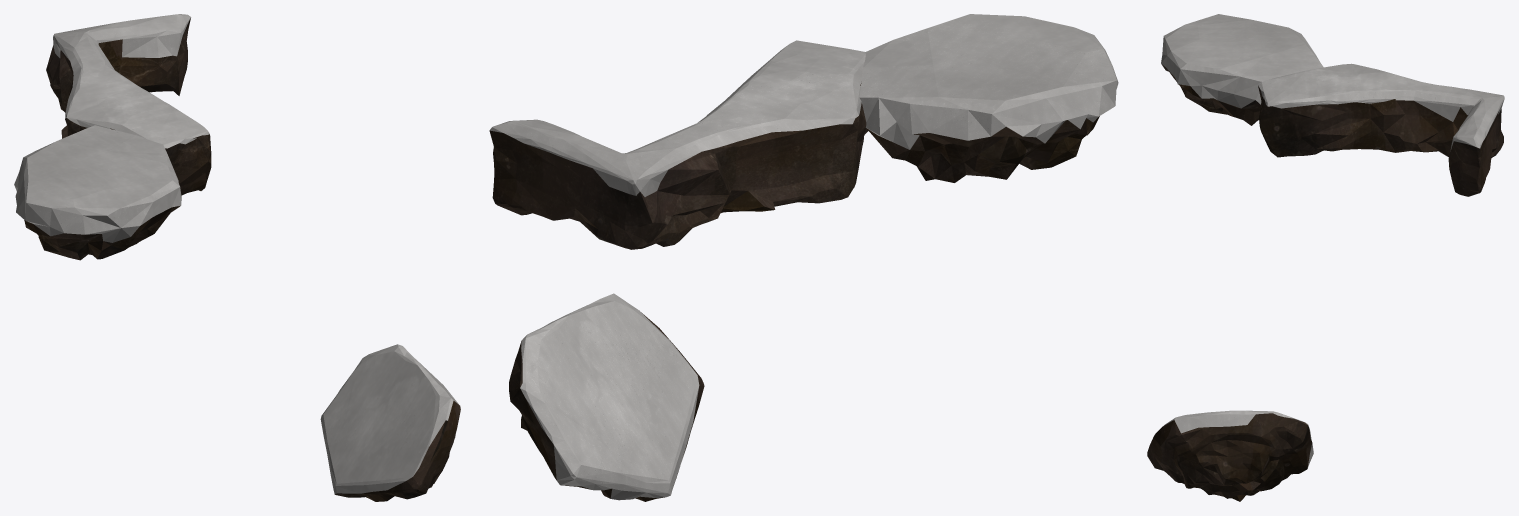
Rendered from tutorialLevel.fbx.
The picture shows the model from 3 angles, left to right: view 1: azimuth 30°, elevation 25°; view 2: azimuth 150°, elevation 25°; view 3: azimuth 270°, elevation 25°; orthographic projection. The views are drawn at different scales.
Visible parts, largest first — view 1: tutorialLevel02, tutorialLevel01, tutorialLevel03; view 2: tutorialLevel02, tutorialLevel01, tutorialLevel03; view 3: tutorialLevel02, tutorialLevel03, tutorialLevel01.
Part boxes in pixels (x1,y1,x2,y2): tutorialLevel02: [46, 14, 211, 195]; tutorialLevel01: [14, 125, 181, 260]; tutorialLevel03: [320, 344, 460, 501]; tutorialLevel02: [489, 40, 868, 249]; tutorialLevel01: [859, 14, 1118, 182]; tutorialLevel03: [509, 293, 704, 501]; tutorialLevel02: [1258, 63, 1504, 196]; tutorialLevel03: [1147, 410, 1313, 501]; tutorialLevel01: [1161, 14, 1323, 125].
Bounding box in the file's own units: 6582 × 5813 × 5586.
